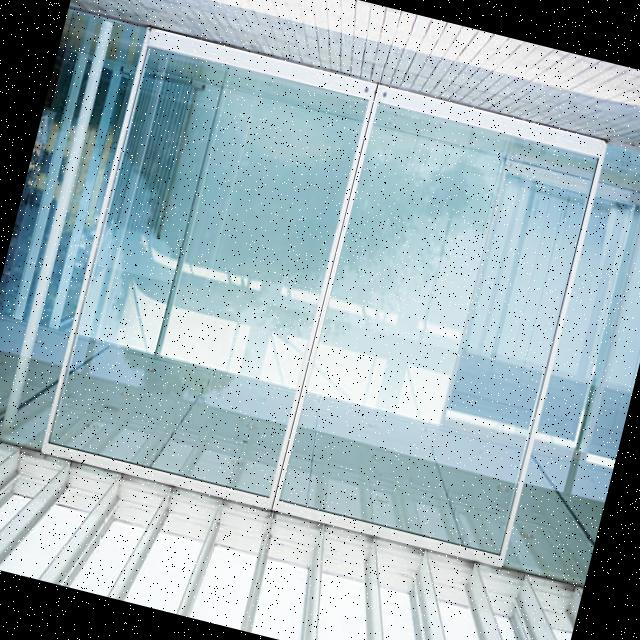Window: (39, 21, 378, 510), (270, 79, 607, 568)
